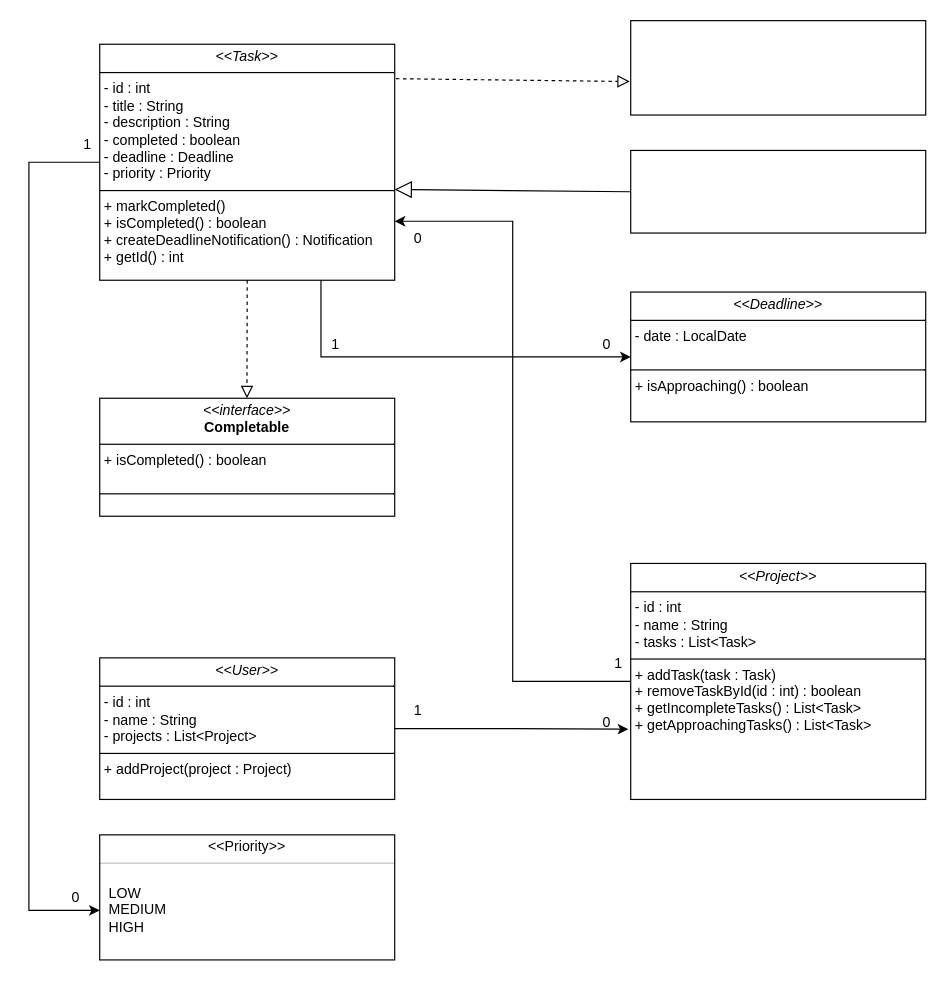
The diagram is 946 pixels wide and 981 high, and some of its shapes have lost their labels. The centre of each missing label's shape, as x and y in pixels:
<< Notification >> - message : String + send(): point 778,67
<< TimedTask >> - durationMinutes : int: point 778,191
